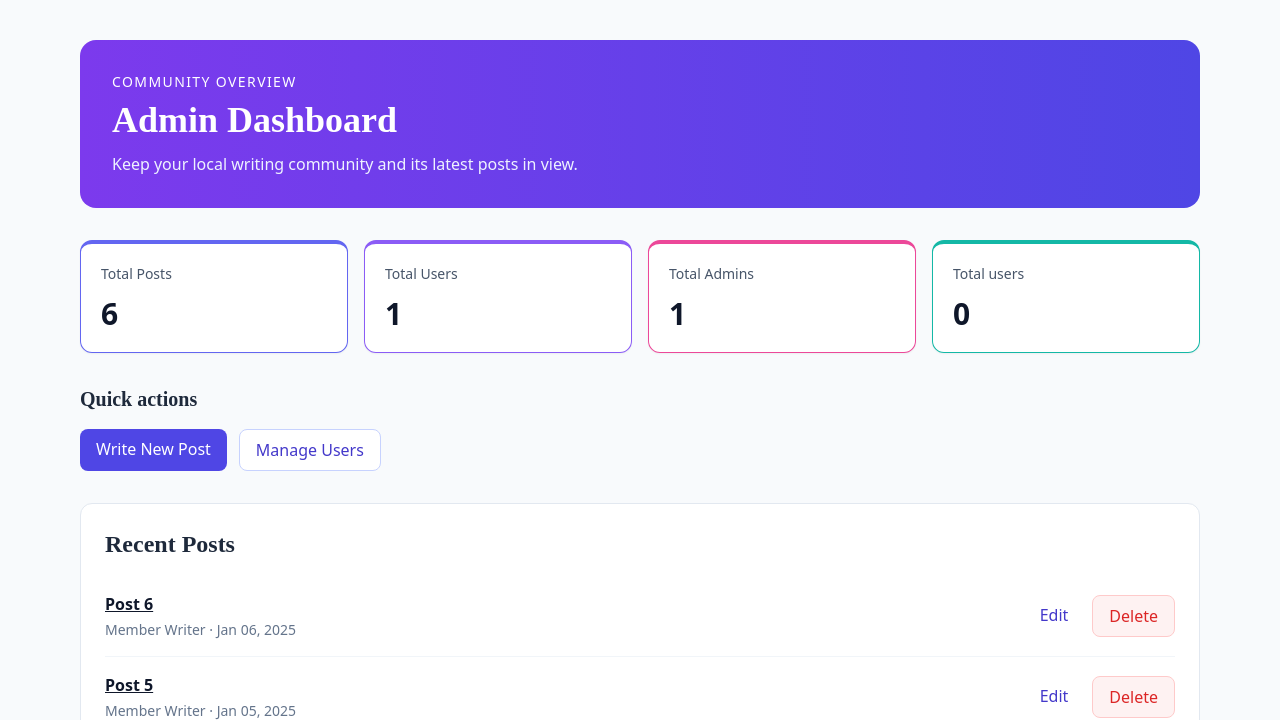
dashboard › cancels without mutation then confirms a foreign post deletion and promotes the sixth newest
Click the button with aria-label "Delete Post 6" at (1134,616), box [1092,595,1175,637]
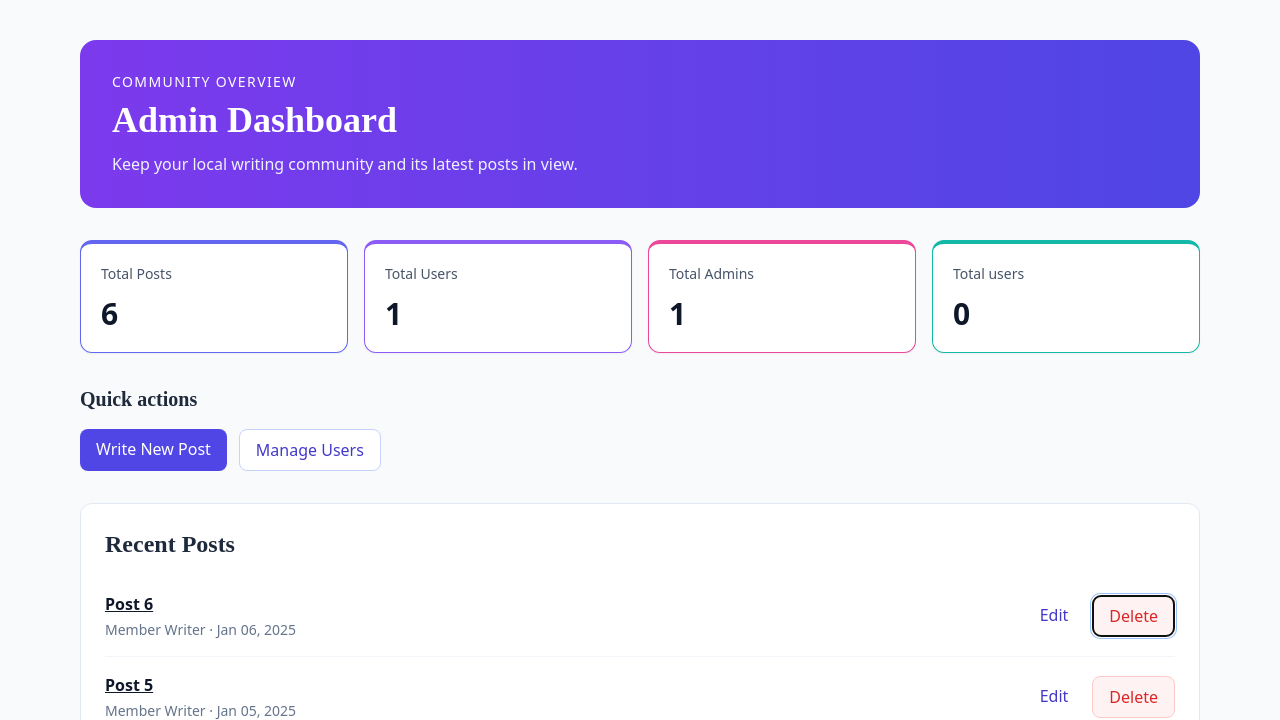
Click the button with aria-label "Delete Post 6" at (1134,616), box [1092,595,1175,637]
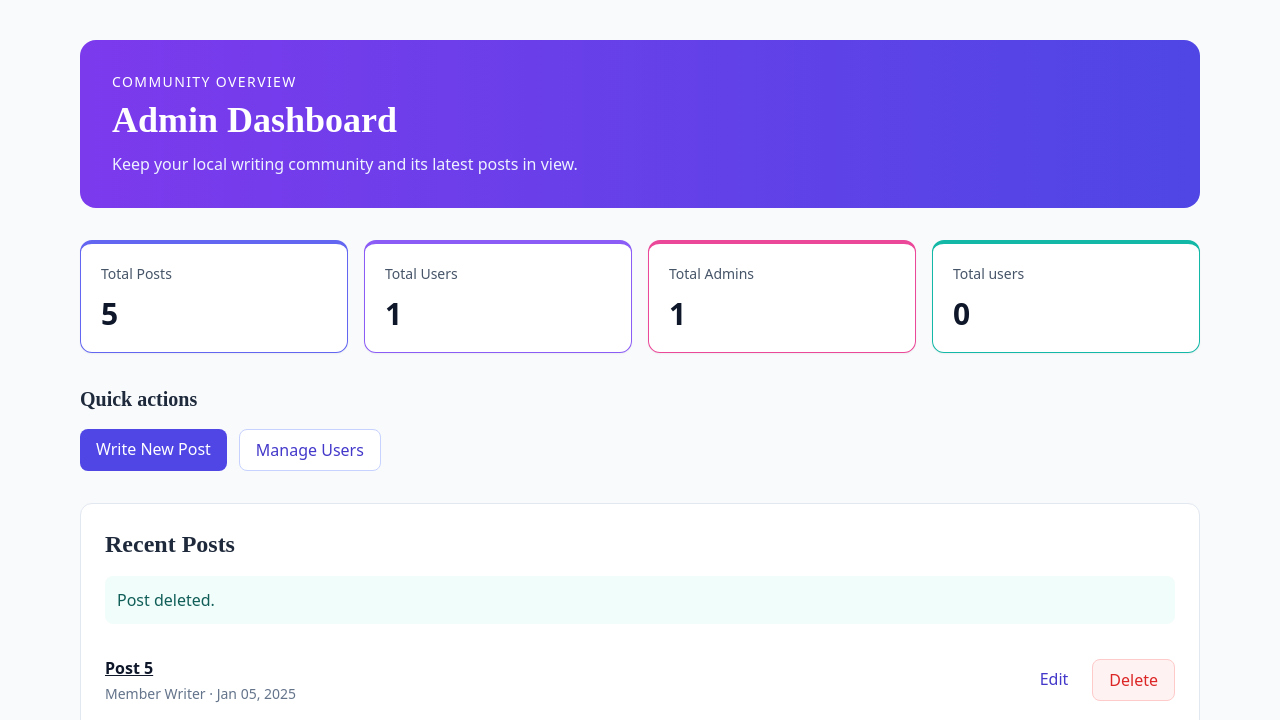
Expected: the link "Post 6" is gone
Expected: the message reads "Post deleted.", [117,589,215,611]
